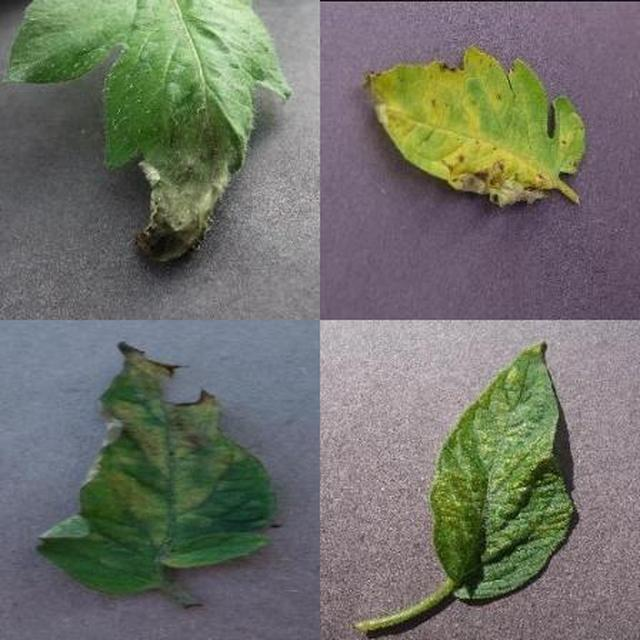Late Blight Leaf: (203, 177, 640, 640)
